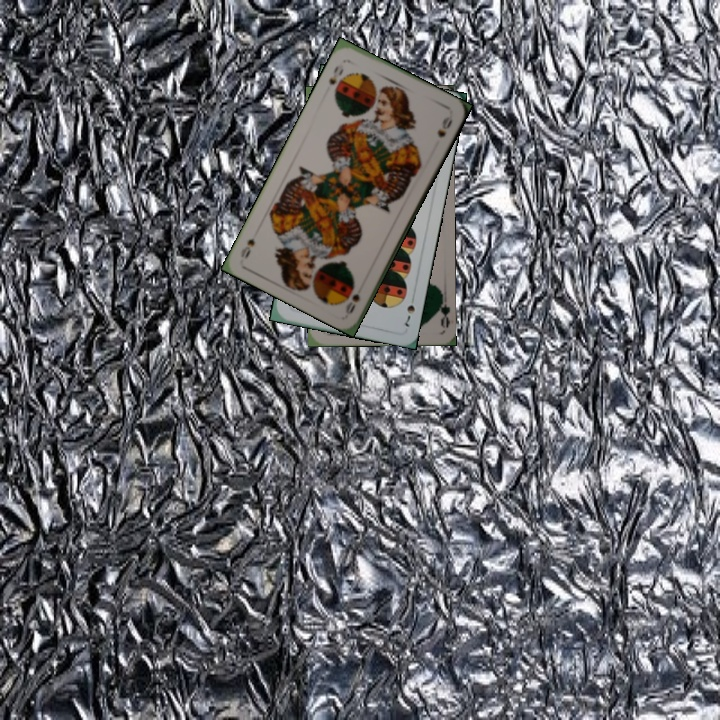GO: (431, 288, 451, 329)
S7: (401, 291, 417, 329)
SO: (341, 289, 363, 317), (325, 62, 346, 88)
